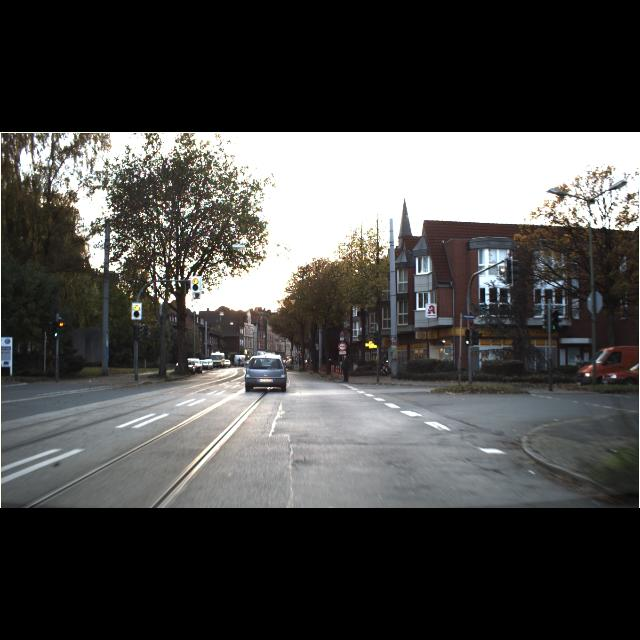prohibitory: (338, 342, 347, 352)
